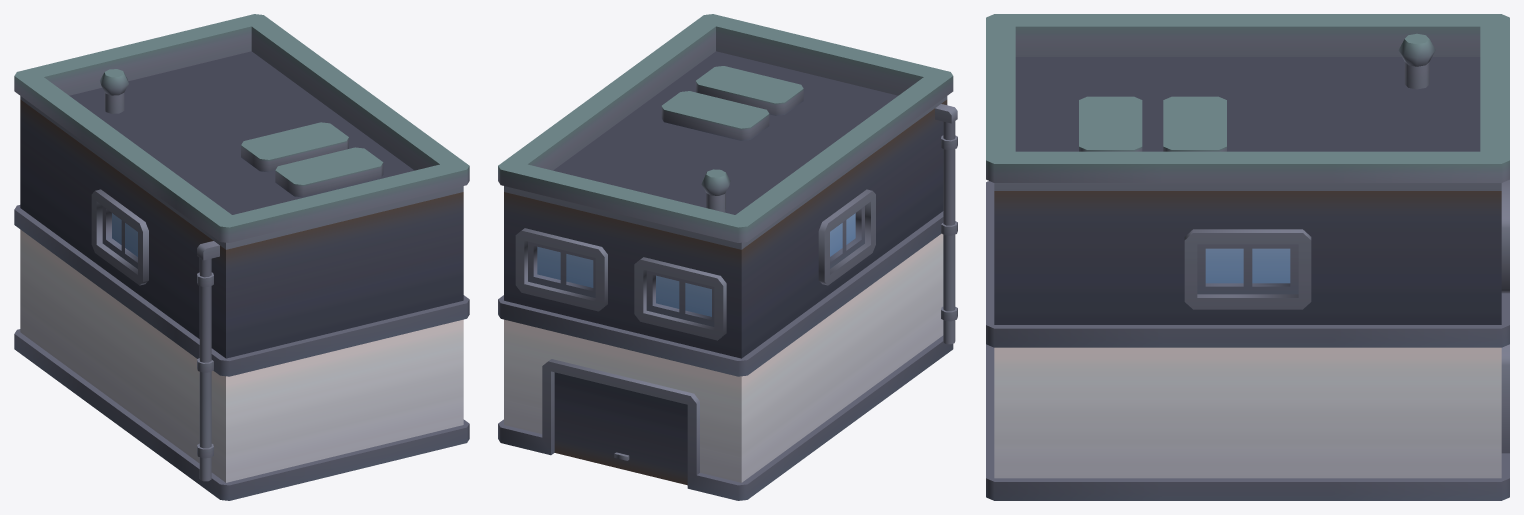
Rendered from ind_building_o.glb.
3 renders of one model, left to right at view 1: azimuth 30°, elevation 25°; view 2: azimuth 150°, elevation 25°; view 3: azimuth 270°, elevation 25°, orthographic. The views are drawn at different scales.
Visible parts, largest first — view 1: building-o; view 2: building-o; view 3: building-o.
Part boxes in pixels (x1,y1,x2,y2): building-o: [14, 14, 469, 500]; building-o: [498, 14, 957, 500]; building-o: [986, 14, 1509, 500].
Bounding box in the file's own units: 0.8836 × 0.918 × 1.24.
1 material, 1 textured.
